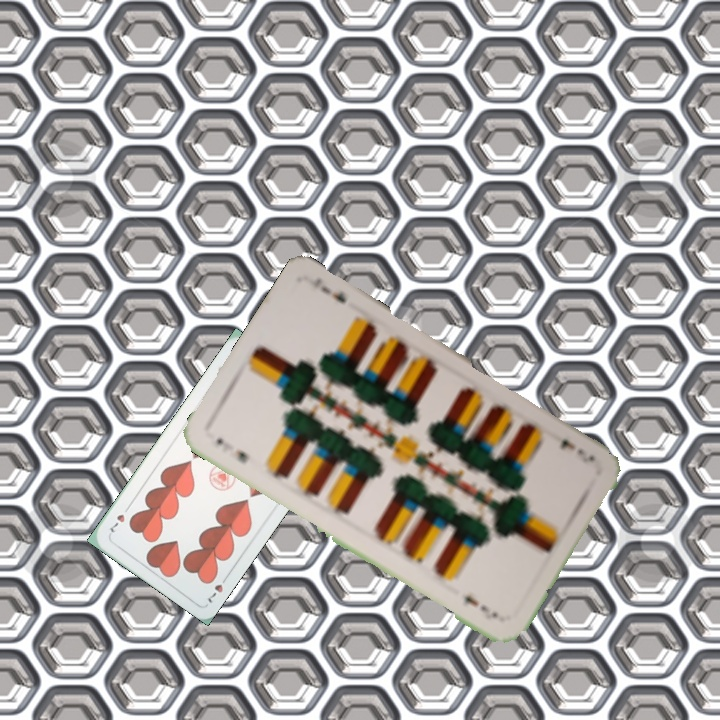E7: (556, 435, 598, 466), (212, 434, 251, 466)
H7: (204, 571, 231, 606)
